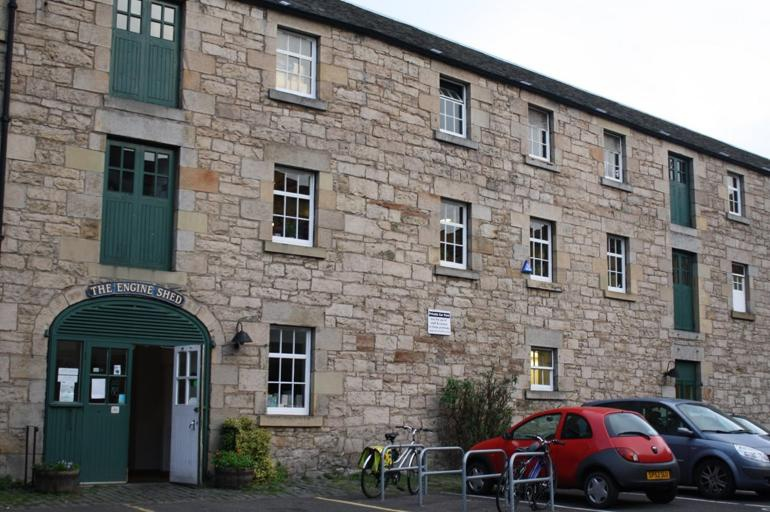non-vehicle: (357, 422, 437, 499), (495, 429, 564, 511)
